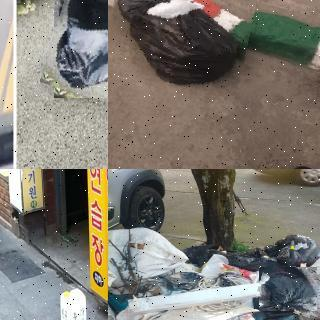Garbage: (108, 0, 252, 90), (46, 0, 108, 103), (256, 263, 320, 315), (297, 244, 320, 320), (271, 235, 320, 266)
